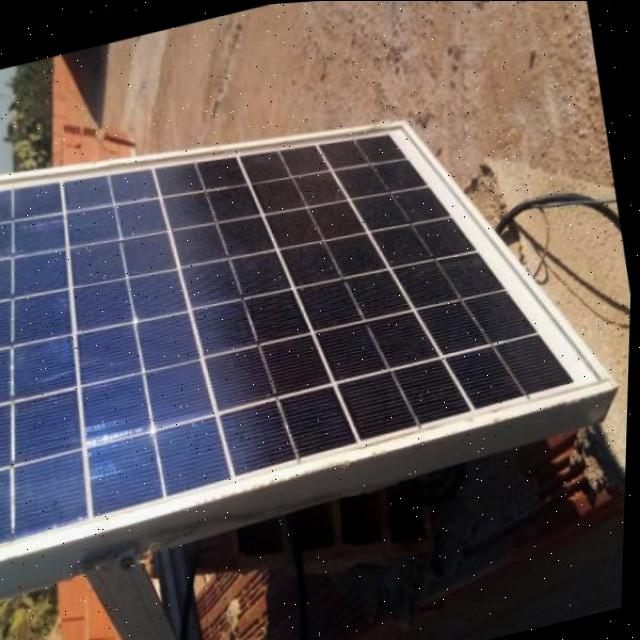Normal Solar Panel: (0, 26, 627, 560)
